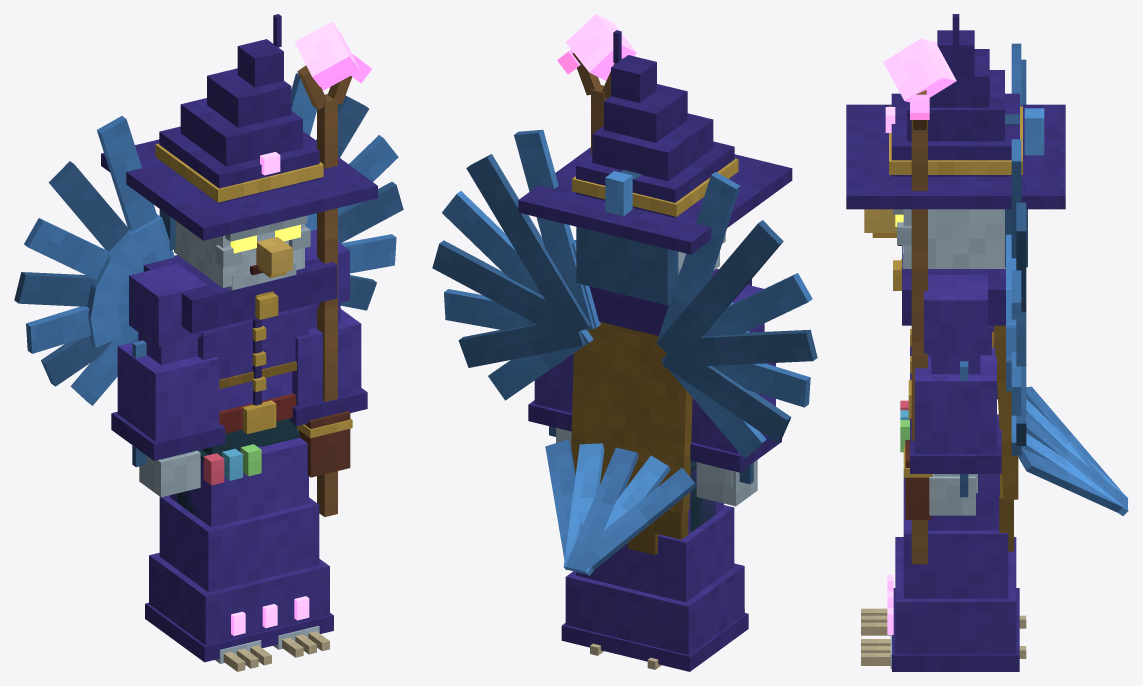
File: harpy_mage.glb
The picture shows the model from 3 angles, left to right: view 1: azimuth 30°, elevation 25°; view 2: azimuth 150°, elevation 25°; view 3: azimuth 270°, elevation 25°; orthographic projection. The views are drawn at different scales.
Visible parts, largest first — view 1: Torso, Head, Root, ArmR, HandL, ArmL, LegR; view 2: Torso, Head, Root, ArmR, HandL, ArmL, LegR; view 3: Head, Root, Torso, ArmL, HandL.
Part boxes in pixels (x1,y1,x2,y2): Torso: (14,73,403,485); Head: (101,14,377,290); Root: (145,437,333,671); ArmR: (111,263,225,497); HandL: (294,21,371,516); ArmL: (290,229,367,431); LegR: (177,449,261,663); Torso: (432,129,817,575); Head: (518,30,792,305); Root: (561,469,748,671); ArmR: (690,284,781,506); HandL: (557,14,636,154); ArmL: (528,354,573,447); LegR: (690,461,716,532); Head: (846,14,1065,268); Root: (861,414,1026,671); Torso: (893,43,1128,551); ArmL: (910,275,1001,515); HandL: (883,38,956,564).
Size of the model in its own units: 1.46 by 2.18 by 0.8628.
41 materials, 41 textured.
